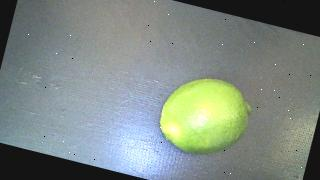EXPORTACION: (154, 69, 257, 165)
